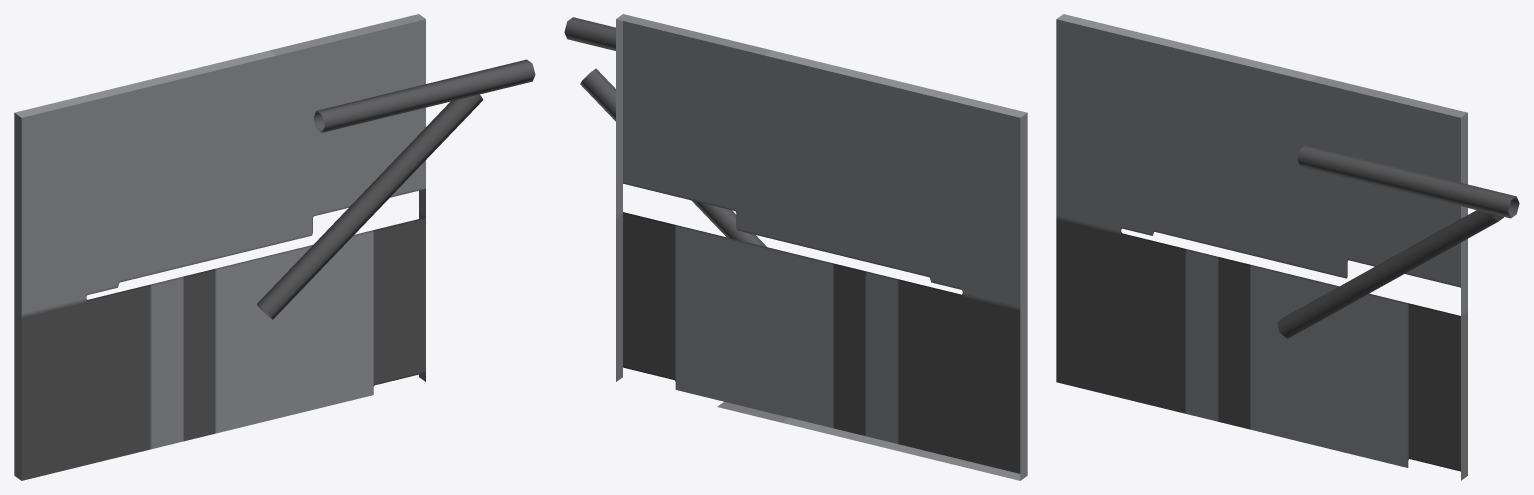
The picture shows the model from 3 angles, left to right: view 1: azimuth 30°, elevation 25°; view 2: azimuth 150°, elevation 25°; view 3: azimuth 330°, elevation 25°; orthographic projection.
Size of the model in its own units: 0.4598 by 0.3304 by 0.063.
